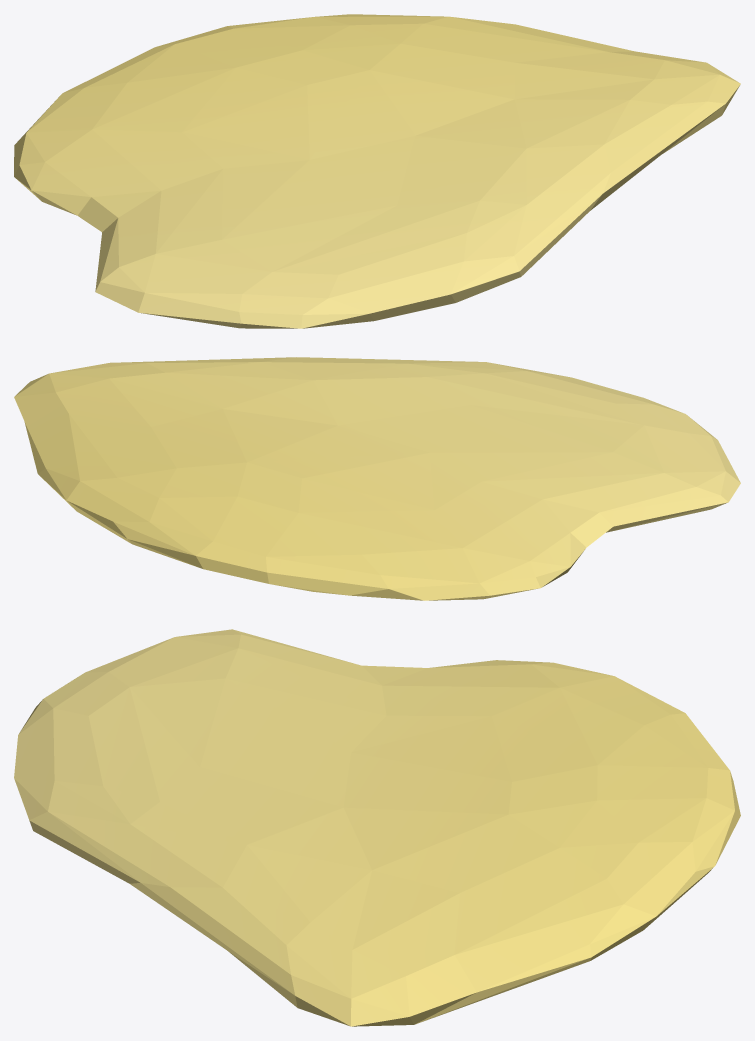
Rendered from Beach 2.001.fbx.
The picture shows the model from 3 angles, top to bottom: view 1: azimuth 30°, elevation 25°; view 2: azimuth 150°, elevation 25°; view 3: azimuth 270°, elevation 25°; orthographic projection. The views are drawn at different scales.
Visible parts, largest first — view 1: Beach 2.001; view 2: Beach 2.001; view 3: Beach 2.001.
Boxes of the visible parts, x1,y1,x2,y2 form: Beach 2.001: (14,14,740,328); Beach 2.001: (14,357,740,600); Beach 2.001: (14,629,740,1026).
Bounding box in the file's own units: 6362 × 679 × 4998.
